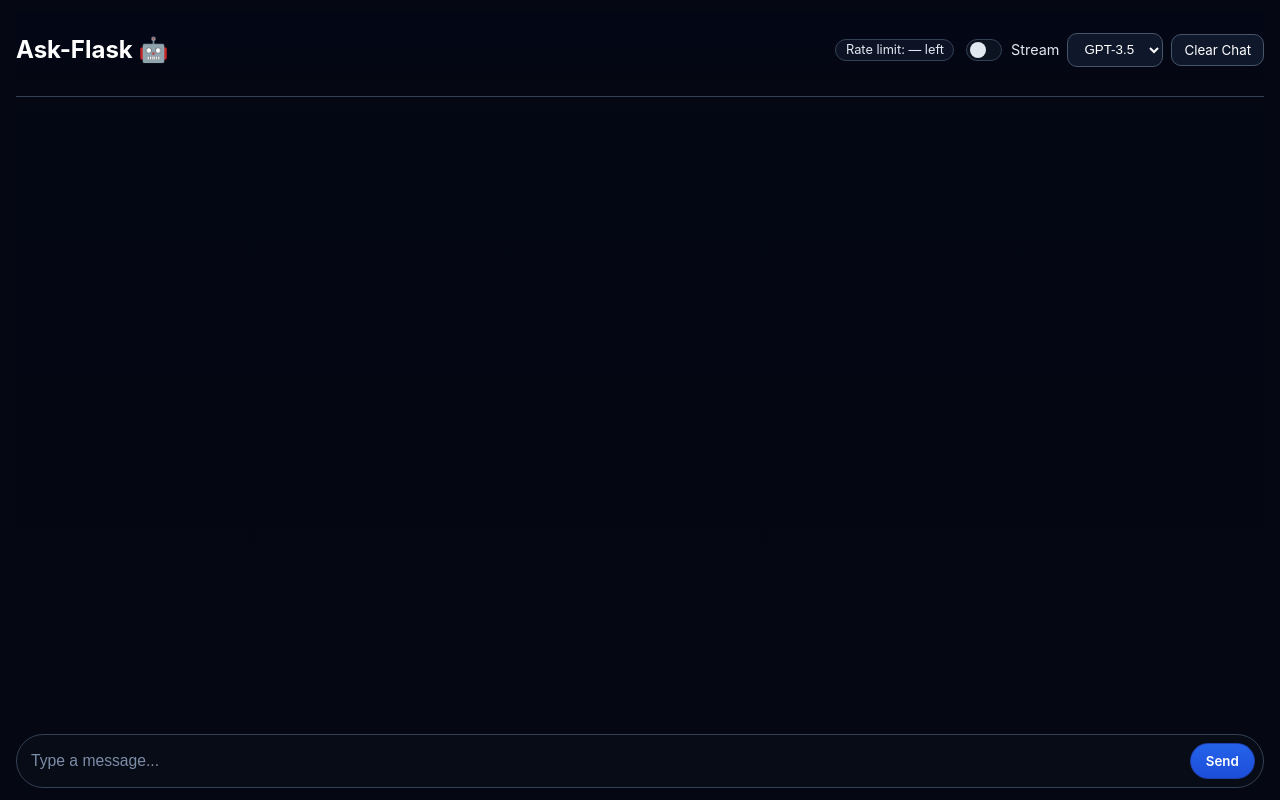
ChatBot coverage › non-stream network error shows fallback message
Type "test" into the field named "message input" at (605, 761), box [29,751,1182,771]
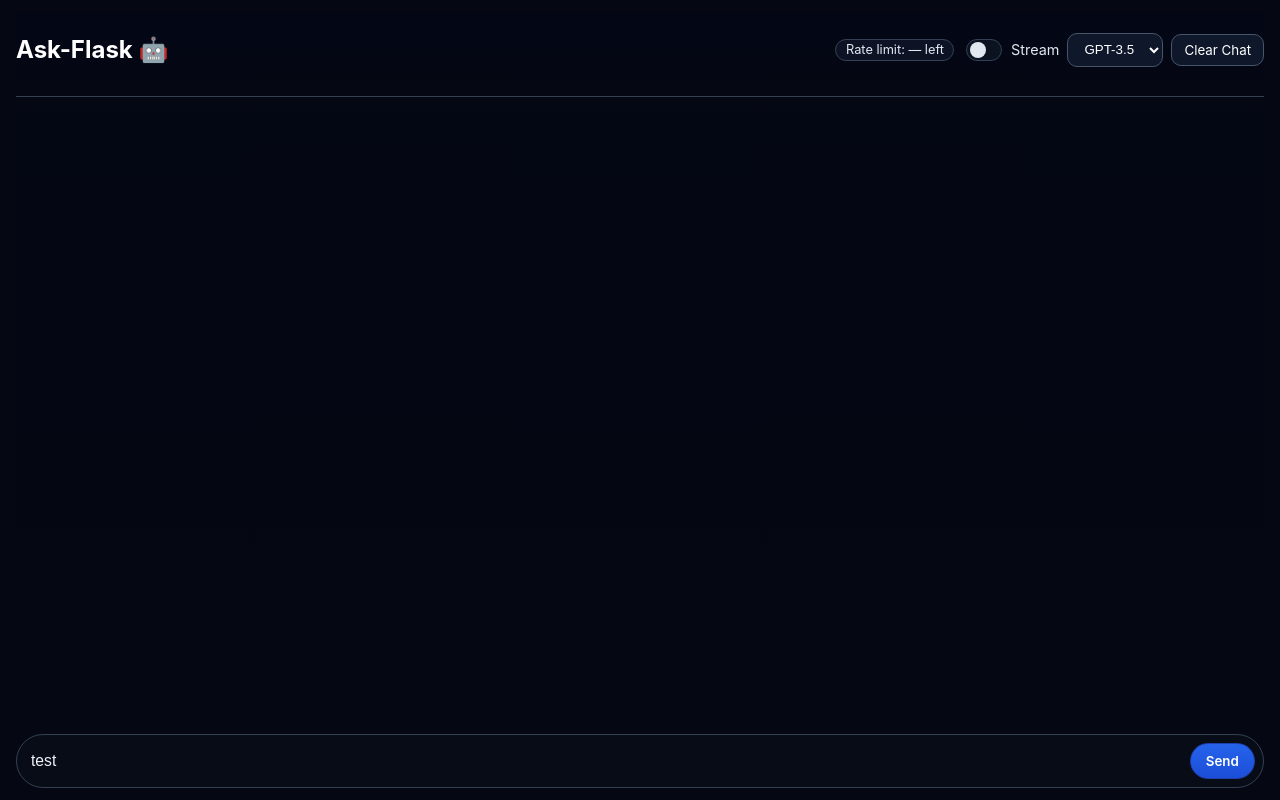
Click the button with aria-label "send message" at (1222, 761), box [1190,743,1255,779]
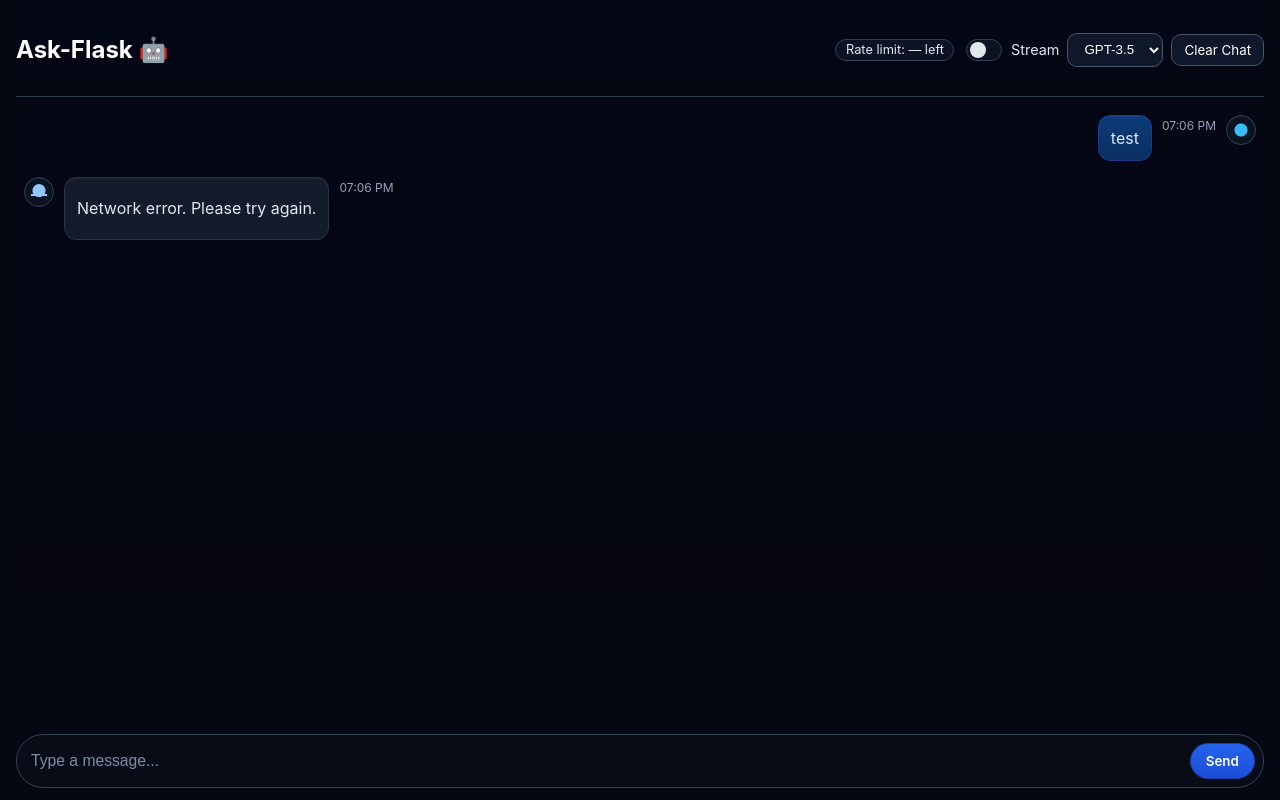
Result: the text "Network error. Please try again." is shown at [77,195,316,221]
